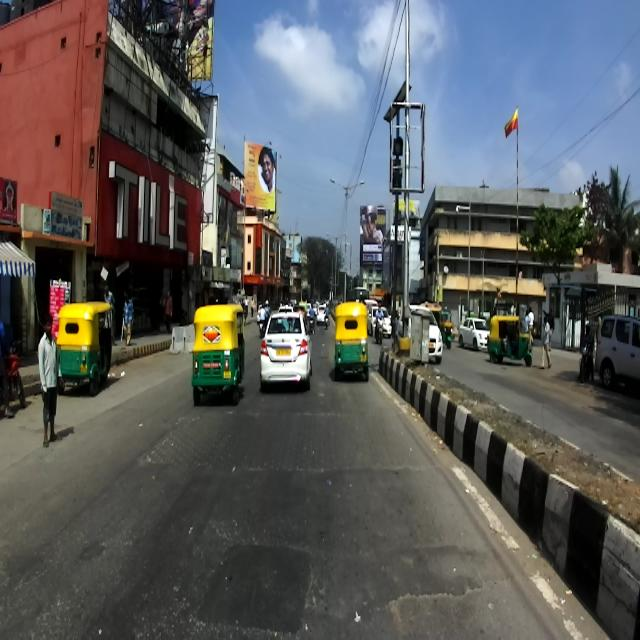auto ahead at: (190, 304, 243, 407), (58, 300, 113, 386), (328, 301, 377, 375)
car ahead at: (256, 303, 317, 392)
traffic signal ahead at: (384, 79, 418, 350)
